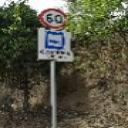speed_limit_60: (39, 7, 68, 29)
